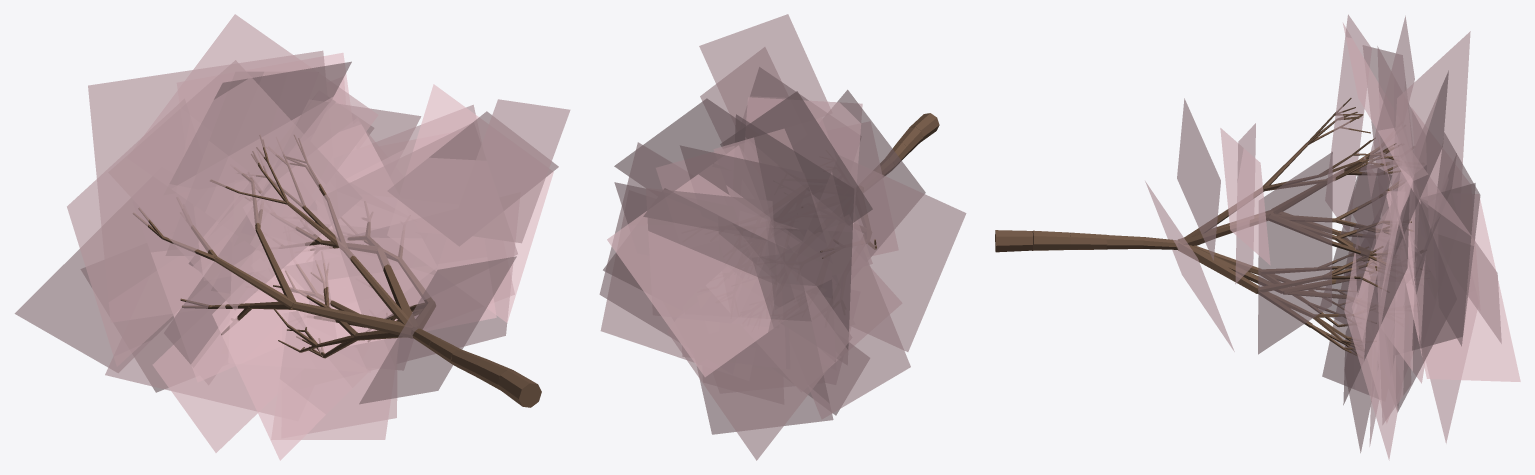
The model's file is peach_tree_lod_1.glb.
The picture shows the model from 3 angles, left to right: view 1: azimuth 30°, elevation 25°; view 2: azimuth 150°, elevation 25°; view 3: azimuth 270°, elevation 25°; orthographic projection. The views are drawn at different scales.
Parts seen in each view (by area): view 1: PeachBlossoms, PeachBark; view 2: PeachBlossoms, PeachBark; view 3: PeachBlossoms, PeachBark.
Part boxes in pixels (x1,y1,x2,y2): PeachBlossoms: (15, 14, 570, 460); PeachBark: (133, 135, 541, 407); PeachBlossoms: (599, 14, 966, 460); PeachBark: (820, 113, 939, 258); PeachBlossoms: (1145, 14, 1520, 460); PeachBark: (995, 98, 1412, 355).
Bounding box in the file's own units: 8.73 × 7.91 × 9.62.
